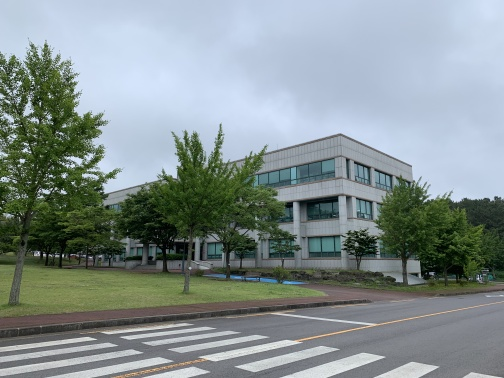Second Library: (243, 129, 428, 287)
